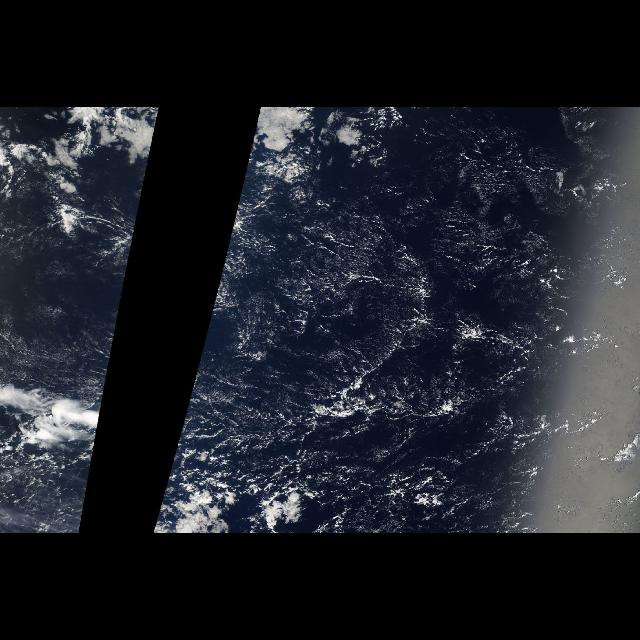Gravel: (168, 204, 606, 506)
Sugar: (239, 115, 619, 418)
